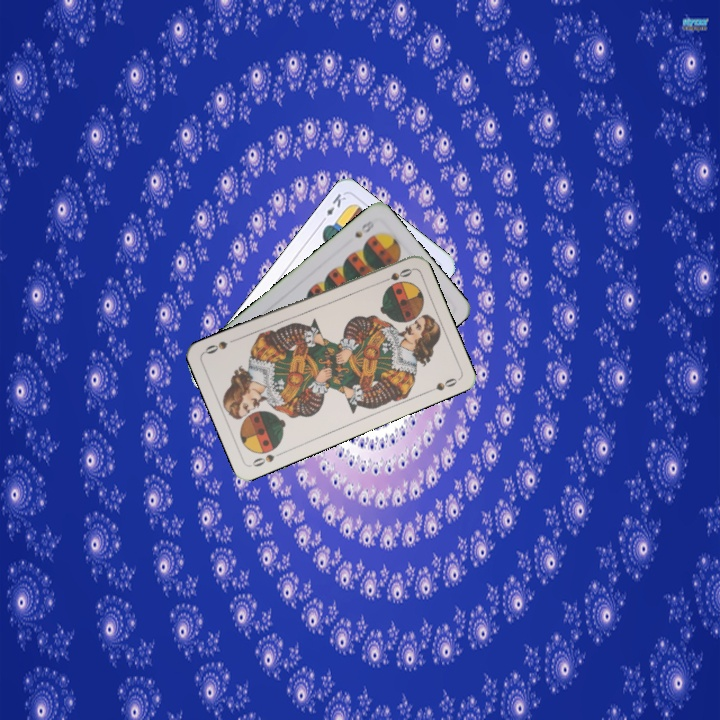EK: (317, 189, 349, 226)
S8: (350, 216, 376, 240)
SO: (376, 264, 415, 286), (248, 448, 286, 469)
